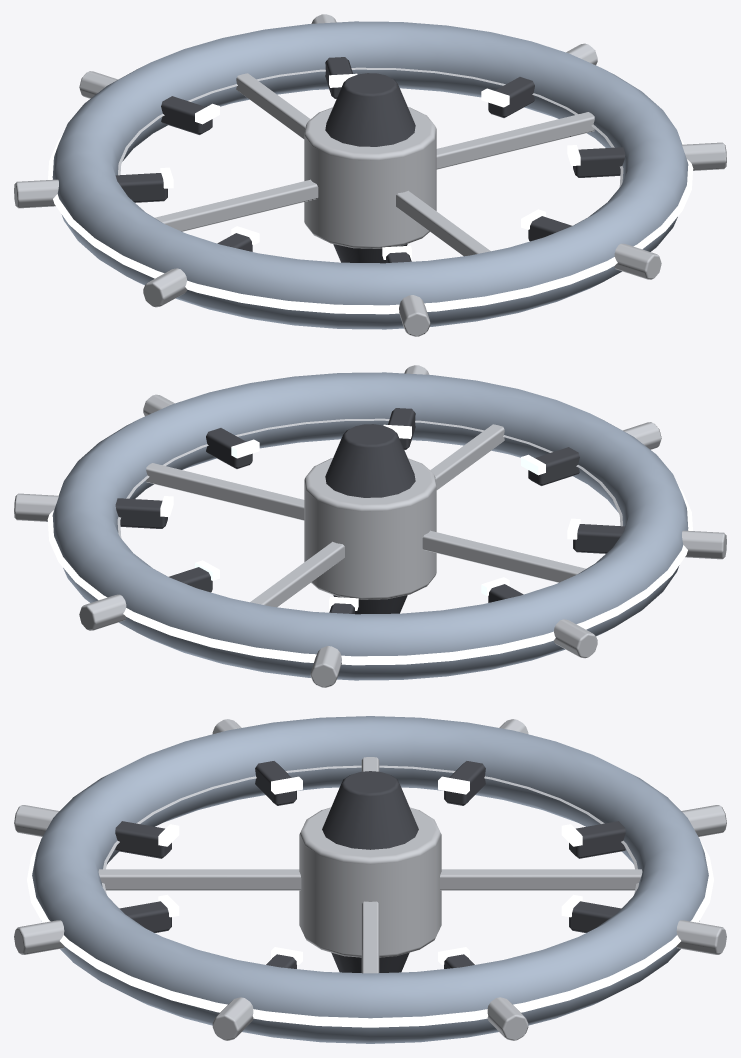
The model's file is docks.glb.
The picture shows the model from 3 angles, top to bottom: view 1: azimuth 30°, elevation 25°; view 2: azimuth 150°, elevation 25°; view 3: azimuth 270°, elevation 25°; orthographic projection. The views are drawn at different scales.
Parts seen in each view (by area): view 1: docks; view 2: docks; view 3: docks.
Boxes of the visible parts, x1,y1,x2,y2 form: docks: (14,14,726,336); docks: (14,365,726,687); docks: (14,716,726,1043).
Size of the model in its own units: 1.4 by 0.4268 by 1.4.
